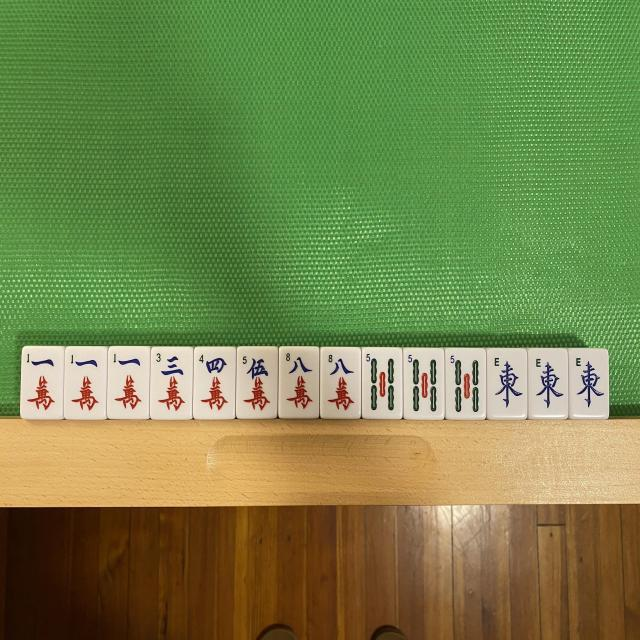hwe: (490, 351, 524, 416), (530, 352, 564, 416), (571, 352, 606, 414)
sb5: (446, 351, 484, 416), (405, 351, 442, 416), (364, 351, 399, 416)
sc1: (23, 350, 60, 416), (110, 350, 146, 416), (67, 350, 101, 414)
sc3: (153, 350, 191, 418)
sc4: (195, 350, 233, 418)
sc5: (238, 348, 274, 416)
sc8: (322, 349, 359, 416), (281, 348, 317, 416)
